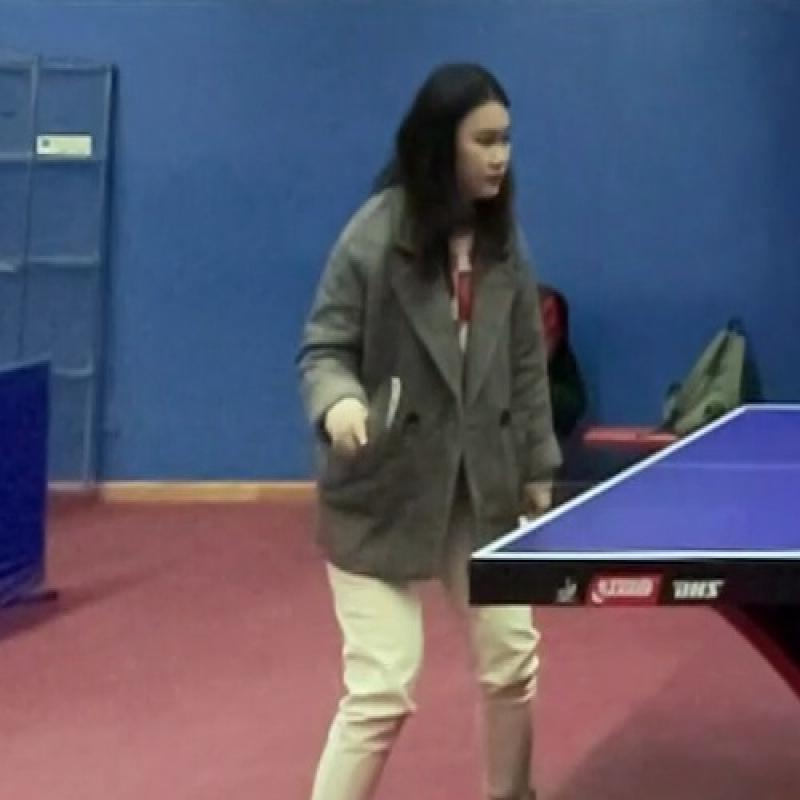bats: (344, 379, 420, 482)
